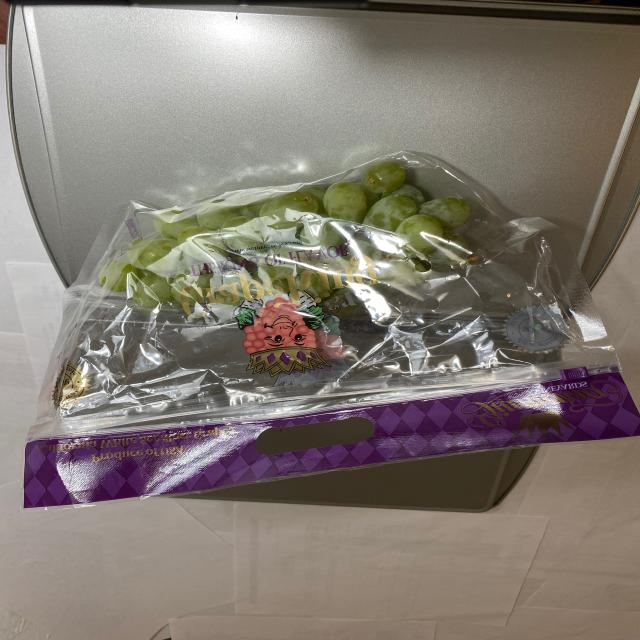grapes: (94, 172, 481, 304)
